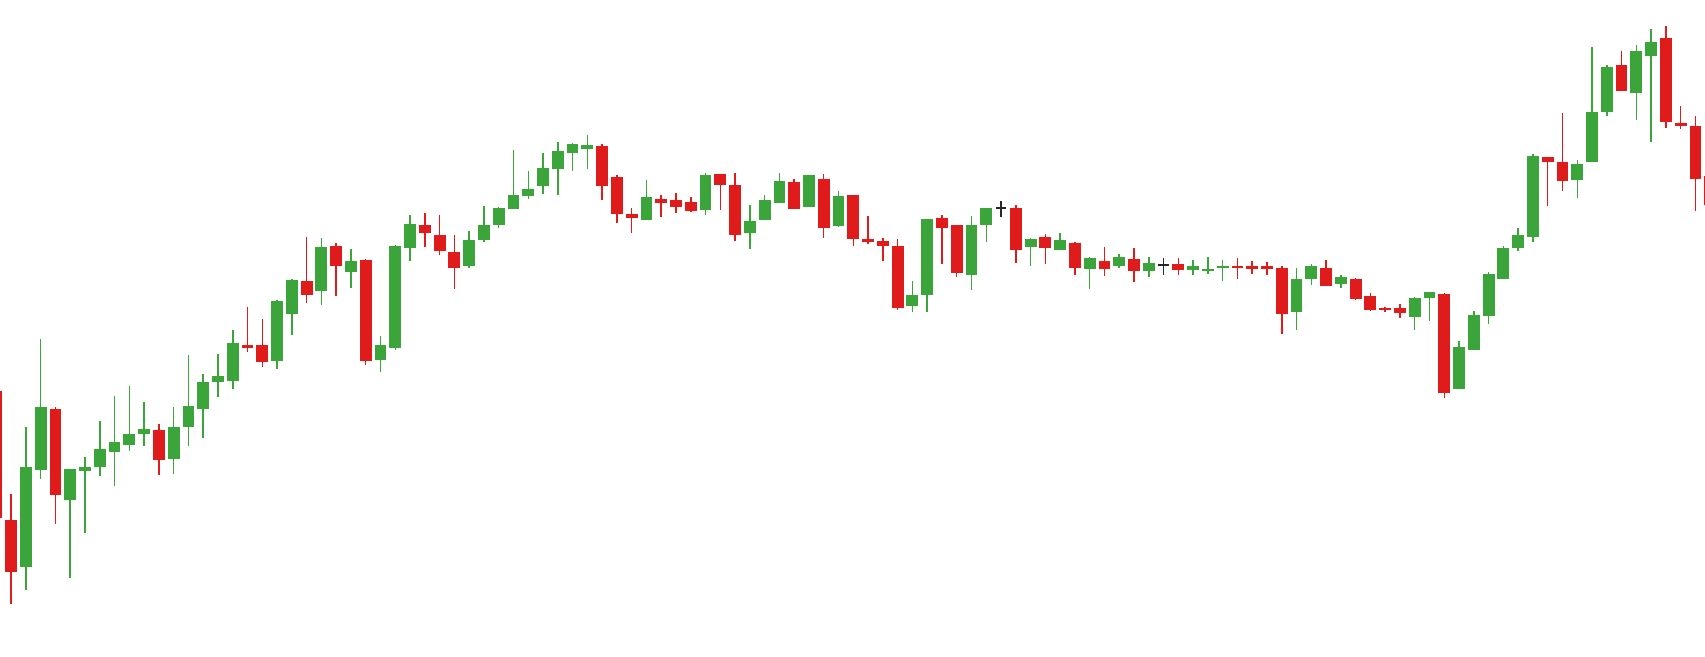buy: (284, 266, 403, 371)
